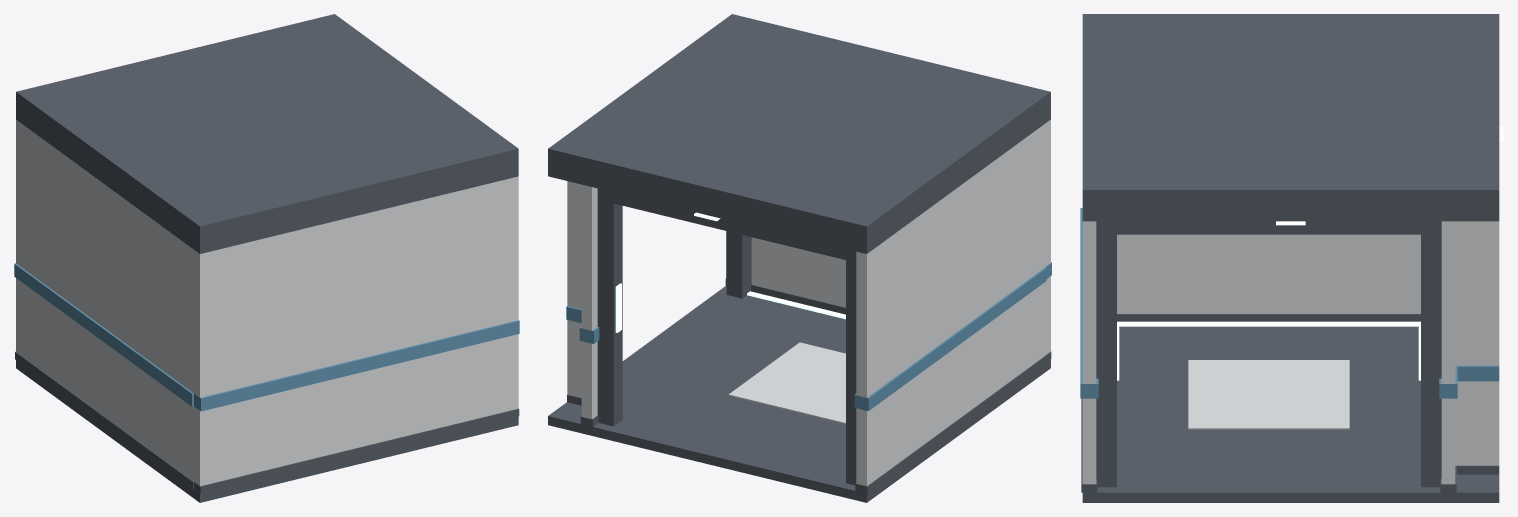
Rendered from spaceship-deck-kit-corridor-corner-c8b5d6e7__12558.glb.
The picture shows the model from 3 angles, left to right: view 1: azimuth 30°, elevation 25°; view 2: azimuth 150°, elevation 25°; view 3: azimuth 270°, elevation 25°; orthographic projection. The views are drawn at different scales.
Parts seen in each view (by area): view 1: corridor-corner; view 2: corridor-corner; view 3: corridor-corner.
Boxes of the visible parts, x1=… form: corridor-corner: x1=14, y1=14, x2=519, y2=502; corridor-corner: x1=548, y1=14, x2=1051, y2=502; corridor-corner: x1=1080, y1=14, x2=1503, y2=502.
Size of the model in its own units: 3.68 by 3 by 3.68.
